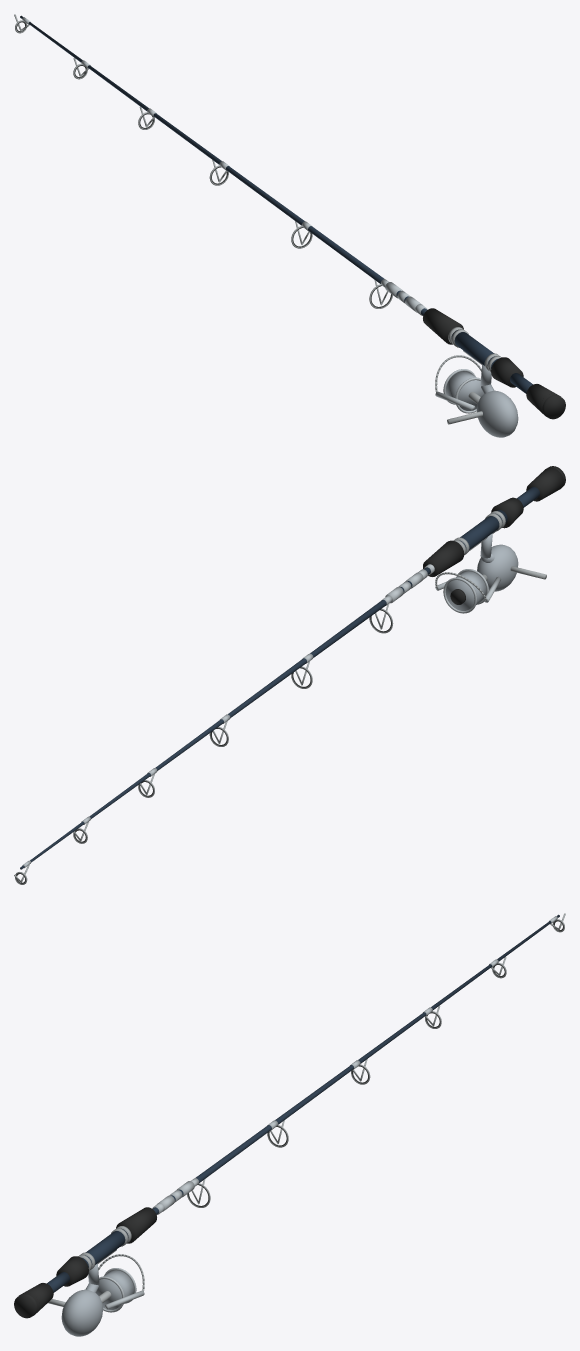
The model's file is reed_feeder.glb.
3 views of the same model, one above another, from view 1: azimuth 30°, elevation 25°; view 2: azimuth 150°, elevation 25°; view 3: azimuth 330°, elevation 25° (orthographic).
Visible parts, largest first — view 1: Tapered carbon blank.009; view 2: Tapered carbon blank.009; view 3: Tapered carbon blank.009.
Part boxes in pixels (x1,y1,x2,y2): Tapered carbon blank.009: [14, 14, 565, 437]; Tapered carbon blank.009: [14, 466, 565, 884]; Tapered carbon blank.009: [14, 913, 565, 1336].
Size of the model in its own units: 0.1318 by 0.1349 by 1.64.
